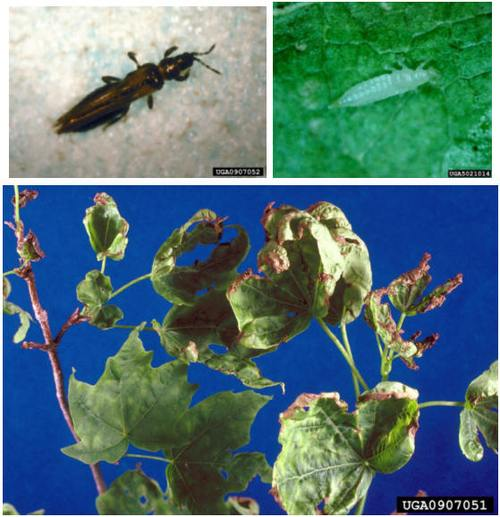Thripidae: (53, 42, 220, 140)
